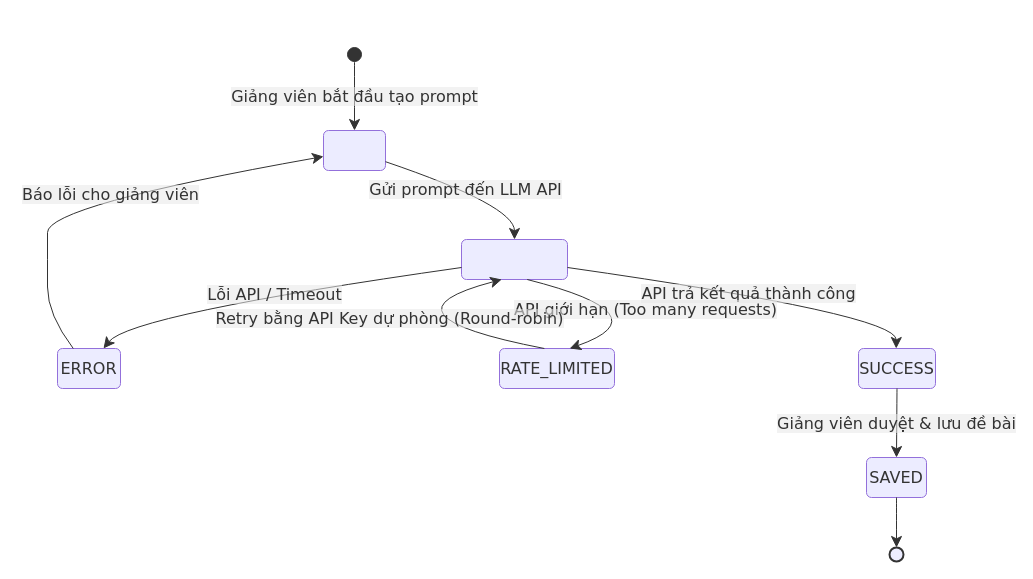
Some shapes in this 1033 by 579 pixel diagram are drawn without their labels. Here are the shapes that lost their labels. From the top down, the centre of each, then its label:
(354,150): DRAFT
(514,259): REQUESTING
